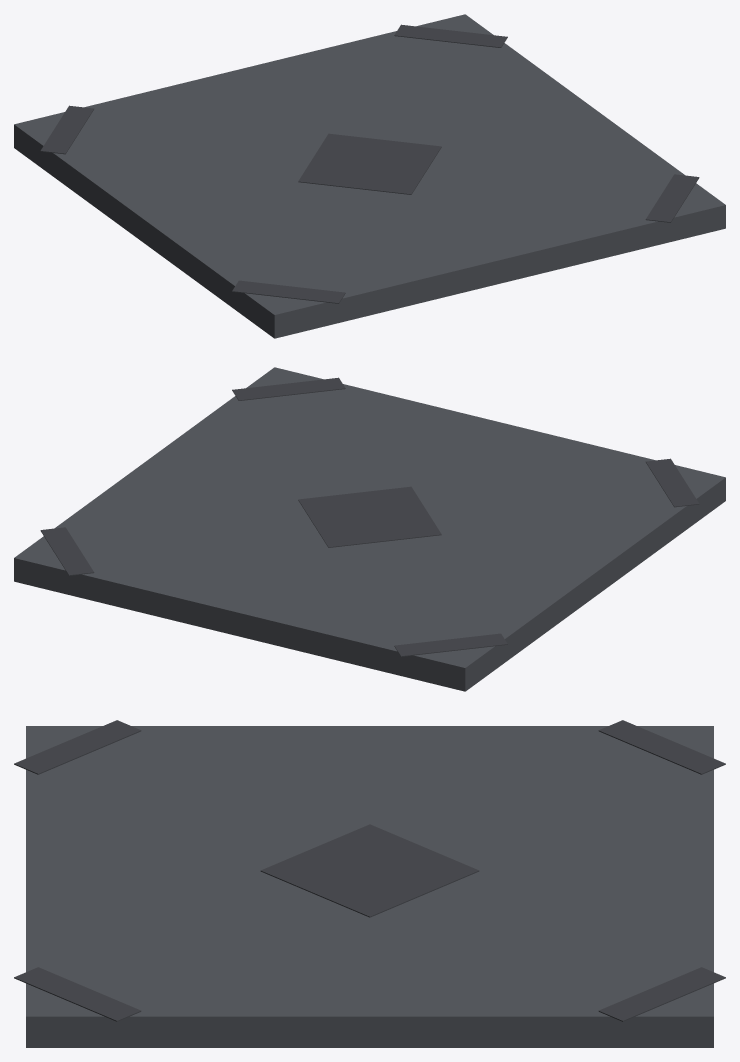
Rendered from Road_Cross.glb.
The picture shows the model from 3 angles, top to bottom: view 1: azimuth 30°, elevation 25°; view 2: azimuth 150°, elevation 25°; view 3: azimuth 270°, elevation 25°; orthographic projection. The views are drawn at different scales.
Visible parts, largest first — view 1: Road_Cross; view 2: Road_Cross; view 3: Road_Cross.
Part boxes in pixels (box(x1,y1,x2,y2)): Road_Cross: box(14, 14, 725, 338); Road_Cross: box(14, 367, 725, 691); Road_Cross: box(14, 720, 725, 1047).
Bounding box in the file's own units: 4.14 × 0.206 × 4.14.
Materials: 1 (1 with a texture image).
